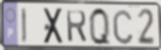2: (136, 8, 156, 47)
C: (111, 8, 135, 46)
I: (20, 7, 28, 45)
Q: (88, 6, 112, 47)
R: (65, 9, 88, 44)
X: (43, 7, 66, 46)
